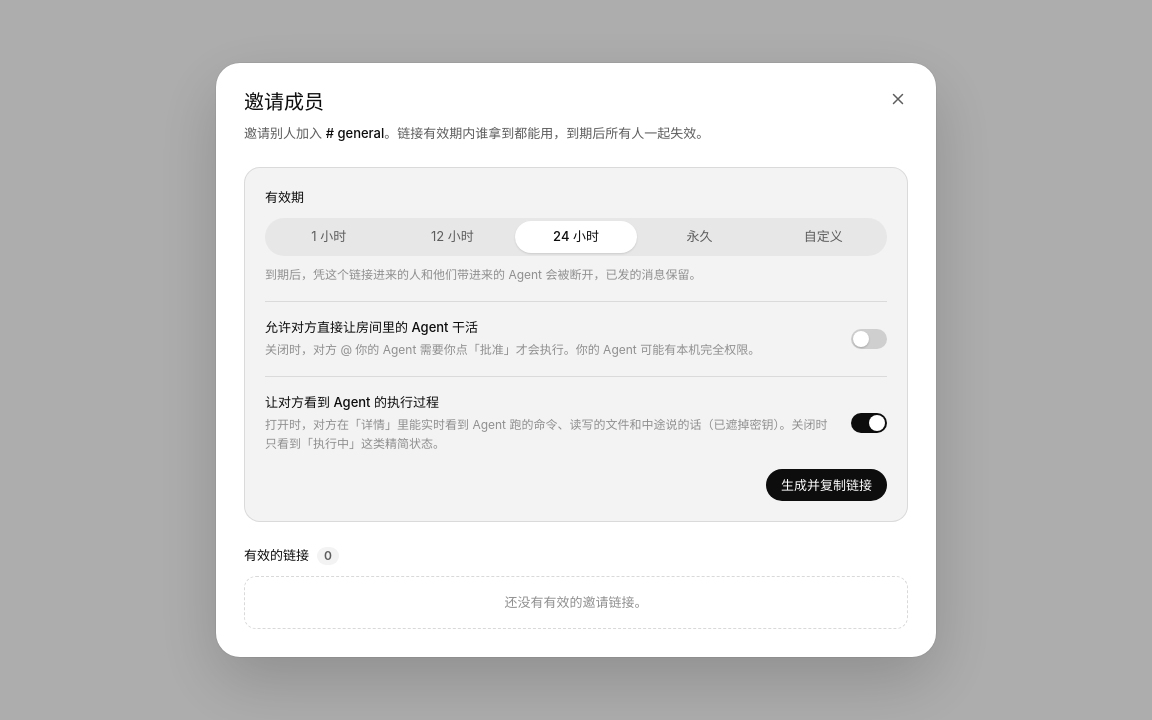
it: InviteDialog › lets guests see agents' activity by default and sends the switch with the invite
Later steps or results of the test are not shown.
Click the switch labelled "让对方看到 Agent 的执行过程" at (576, 414), box [265,376,887,453]
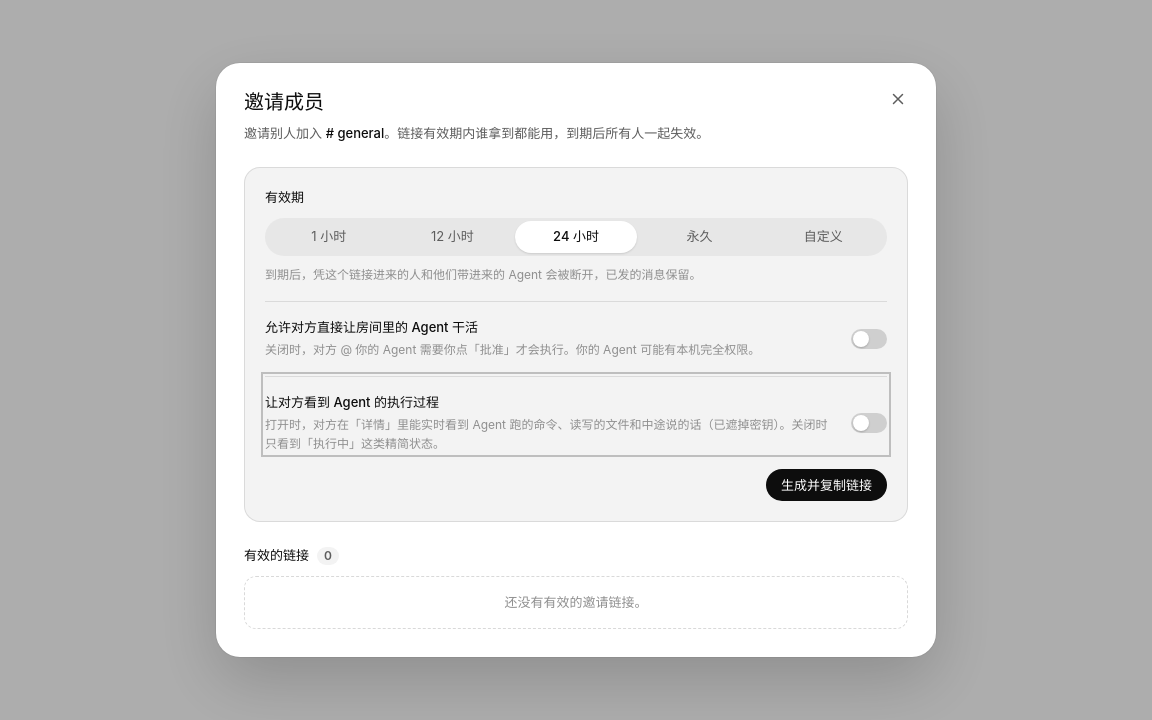
Expected: the switch labelled "让对方看到 Agent 的执行过程" is not checked, [265,376,887,453]
